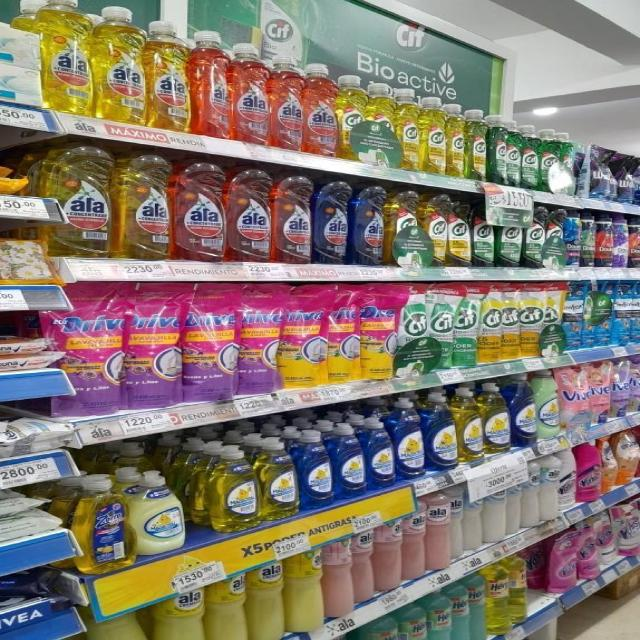ala_conc_amarillo: (43, 142, 113, 257), (116, 150, 172, 260), (95, 3, 145, 124), (40, 0, 93, 114), (147, 18, 190, 131)
ala_conc_azul: (313, 179, 350, 265), (351, 184, 385, 266)
ala_conc_rojo: (174, 159, 226, 263), (192, 27, 232, 137), (228, 167, 272, 263), (232, 39, 270, 144), (273, 172, 312, 265), (303, 61, 337, 157), (270, 56, 302, 150)
ala_crem_amarillo: (286, 541, 323, 633), (248, 549, 284, 640), (206, 566, 247, 640), (153, 581, 204, 640)
ala_crem_blanco: (484, 476, 505, 544), (464, 482, 483, 553), (522, 461, 539, 529), (506, 466, 521, 535)
ala_crem_rosado: (324, 533, 353, 619), (374, 506, 402, 592), (402, 496, 425, 580), (426, 490, 449, 571), (354, 520, 374, 604), (450, 485, 463, 563)
cif_conc_bot_amarilla: (387, 188, 422, 268), (338, 73, 368, 162), (368, 82, 397, 168), (420, 95, 445, 174), (396, 88, 419, 172), (423, 192, 447, 267), (447, 195, 471, 267), (465, 108, 488, 181), (446, 102, 466, 178)
cif_conc_botella_verde: (489, 114, 519, 186), (496, 203, 522, 268), (471, 199, 495, 268), (520, 124, 540, 190), (540, 128, 560, 193), (524, 204, 544, 268), (546, 208, 562, 268)
cif_conc_sachet_amarillo: (479, 283, 501, 363), (519, 282, 542, 358), (543, 282, 562, 356), (501, 283, 518, 360)
cif_conc_sachet_verde: (398, 284, 428, 374), (453, 284, 478, 367), (429, 284, 453, 370)
drive: (124, 282, 180, 408), (183, 282, 236, 403), (239, 284, 279, 394)
heroe: (486, 560, 509, 636), (428, 590, 452, 640), (470, 572, 486, 640), (452, 580, 470, 640), (402, 603, 428, 640), (365, 615, 400, 640)
magistral_con_amarillo: (208, 443, 258, 531), (260, 436, 296, 519), (457, 386, 482, 463), (483, 382, 509, 454)
magistral_con_azul: (298, 428, 332, 509), (394, 396, 424, 481), (425, 391, 456, 471), (334, 422, 364, 498), (366, 417, 394, 490), (511, 374, 536, 447), (537, 370, 560, 440)
magistral_con_crema: (128, 471, 186, 556)
